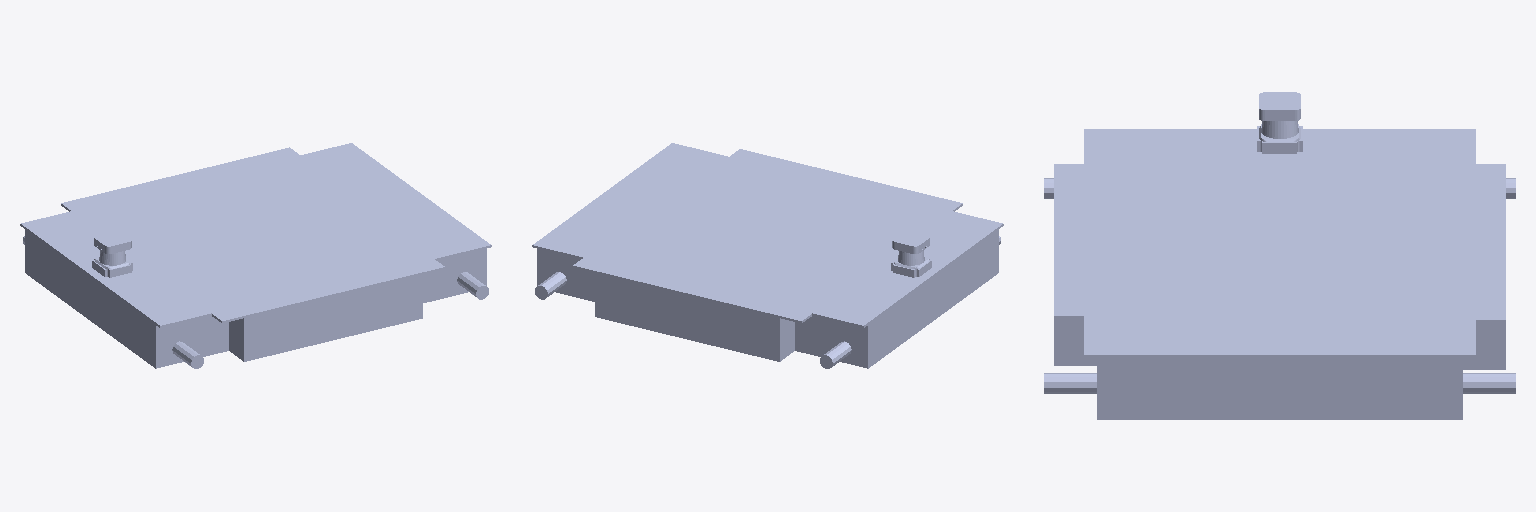
The robot description file, URDF, robot "ASM_BASE_TEMPORAIRE.SLDASM":
<robot
  name="ASM_BASE_TEMPORAIRE.SLDASM">
  <link
    name="base_link">
    <inertial>
      <origin
        xyz="0.35773 -4.0529 3.0873"
        rpy="0 0 0" />
      <mass
        value="37.238" />
      <inertia
        ixx="1.0046"
        ixy="3.9425E-06"
        ixz="-0.0034778"
        iyy="2.4336"
        iyz="1.1773E-05"
        izz="1.4848" />
    </inertial>
    <visual>
      <origin
        xyz="0 0 0"
        rpy="0 0 0" />
      <geometry>
        <mesh
          filename="package://ASM_BASE_TEMPORAIRE.SLDASM/meshes/base_link.STL" />
      </geometry>
      <material
        name="">
        <color
          rgba="0.79216 0.81961 0.93333 1" />
      </material>
    </visual>
    <collision>
      <origin
        xyz="0 0 0"
        rpy="0 0 0" />
      <geometry>
        <mesh
          filename="package://ASM_BASE_TEMPORAIRE.SLDASM/meshes/base_link.STL" />
      </geometry>
    </collision>
  </link>
  <link
    name="laser_Link">
    <inertial>
      <origin
        xyz="0.000108334253726076 0.0387789680553077 -3.72795389935732E-06"
        rpy="0 0 0" />
      <mass
        value="0.240152884055235" />
      <inertia
        ixx="0.00021767849947433"
        ixy="-8.02991880089284E-07"
        ixz="-4.17195272299676E-08"
        iyy="0.000119875713246722"
        iyz="2.75467478903389E-08"
        izz="0.000218518123535949" />
    </inertial>
    <visual>
      <origin
        xyz="0 0 0"
        rpy="0 0 0" />
      <geometry>
        <mesh
          filename="package://ASM_BASE_TEMPORAIRE.SLDASM/meshes/laser_Link.STL" />
      </geometry>
      <material
        name="">
        <color
          rgba="0.792156862745098 0.819607843137255 0.933333333333333 1" />
      </material>
    </visual>
    <collision>
      <origin
        xyz="0 0 0"
        rpy="0 0 0" />
      <geometry>
        <mesh
          filename="package://ASM_BASE_TEMPORAIRE.SLDASM/meshes/laser_Link.STL" />
      </geometry>
    </collision>
  </link>
  <joint
    name="laser_Joint"
    type="fixed">
    <origin
      xyz="0.050175 -3.0878 -4.0275"
      rpy="1.5708 0 0" />
    <parent
      link="base_link" />
    <child
      link="laser_Link" />
    <axis
      xyz="0 0 0" />
  </joint>
</robot>

--- What the picture shows (computed from the rendered views, not written in the file) ---
The picture shows the robot from 3 angles, left to right: view 1: azimuth 30°, elevation 25°; view 2: azimuth 150°, elevation 25°; view 3: azimuth 270°, elevation 25°; orthographic projection.
Robot: ASM_BASE_TEMPORAIRE.SLDASM — 2 links, 1 joints (1 fixed); root link base_link; default pose: all joints at 0.
Visible links, largest first — view 1: base_link, laser_Link; view 2: base_link, laser_Link; view 3: base_link, laser_Link.
Boxes of the visible links, x1,y1,x2,y2 form: base_link: [20, 143, 491, 368]; laser_Link: [92, 231, 132, 277]; base_link: [532, 143, 1003, 368]; laser_Link: [891, 231, 931, 277]; base_link: [1044, 129, 1515, 419]; laser_Link: [1257, 92, 1302, 153].
Bounding box of the posed robot: 0.7112 × 0.6262 × 0.1578 m (x, y, z).
Meshes: 2 distinct files referenced, 2 mesh visuals loaded (2 binary STL).